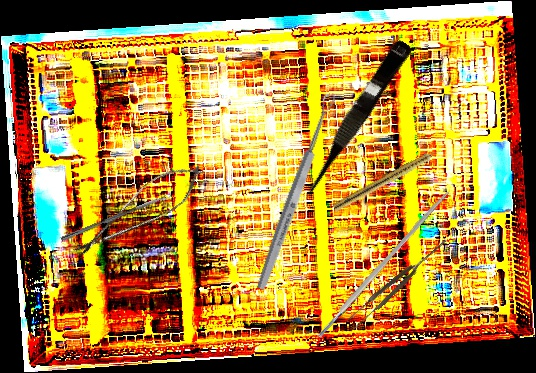Handpiece: (332, 144, 445, 215)
Micro Scissor: (292, 35, 414, 205), (66, 152, 212, 271)
Scalpel Handle: (315, 189, 451, 339)
Surgical Spoon: (254, 92, 338, 292), (60, 193, 172, 242)
Tissue Forceps: (344, 234, 453, 331)
